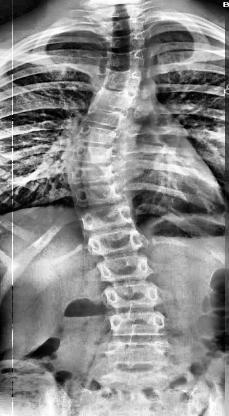Vertebrae: (98, 339, 174, 367), (94, 254, 155, 286), (104, 282, 169, 312), (83, 233, 151, 258), (76, 207, 136, 235), (104, 313, 172, 337), (70, 182, 132, 206), (63, 162, 126, 182), (63, 145, 127, 164), (97, 69, 151, 89), (96, 32, 150, 52), (70, 127, 126, 145), (96, 48, 146, 68), (80, 107, 134, 125), (84, 85, 132, 105)
